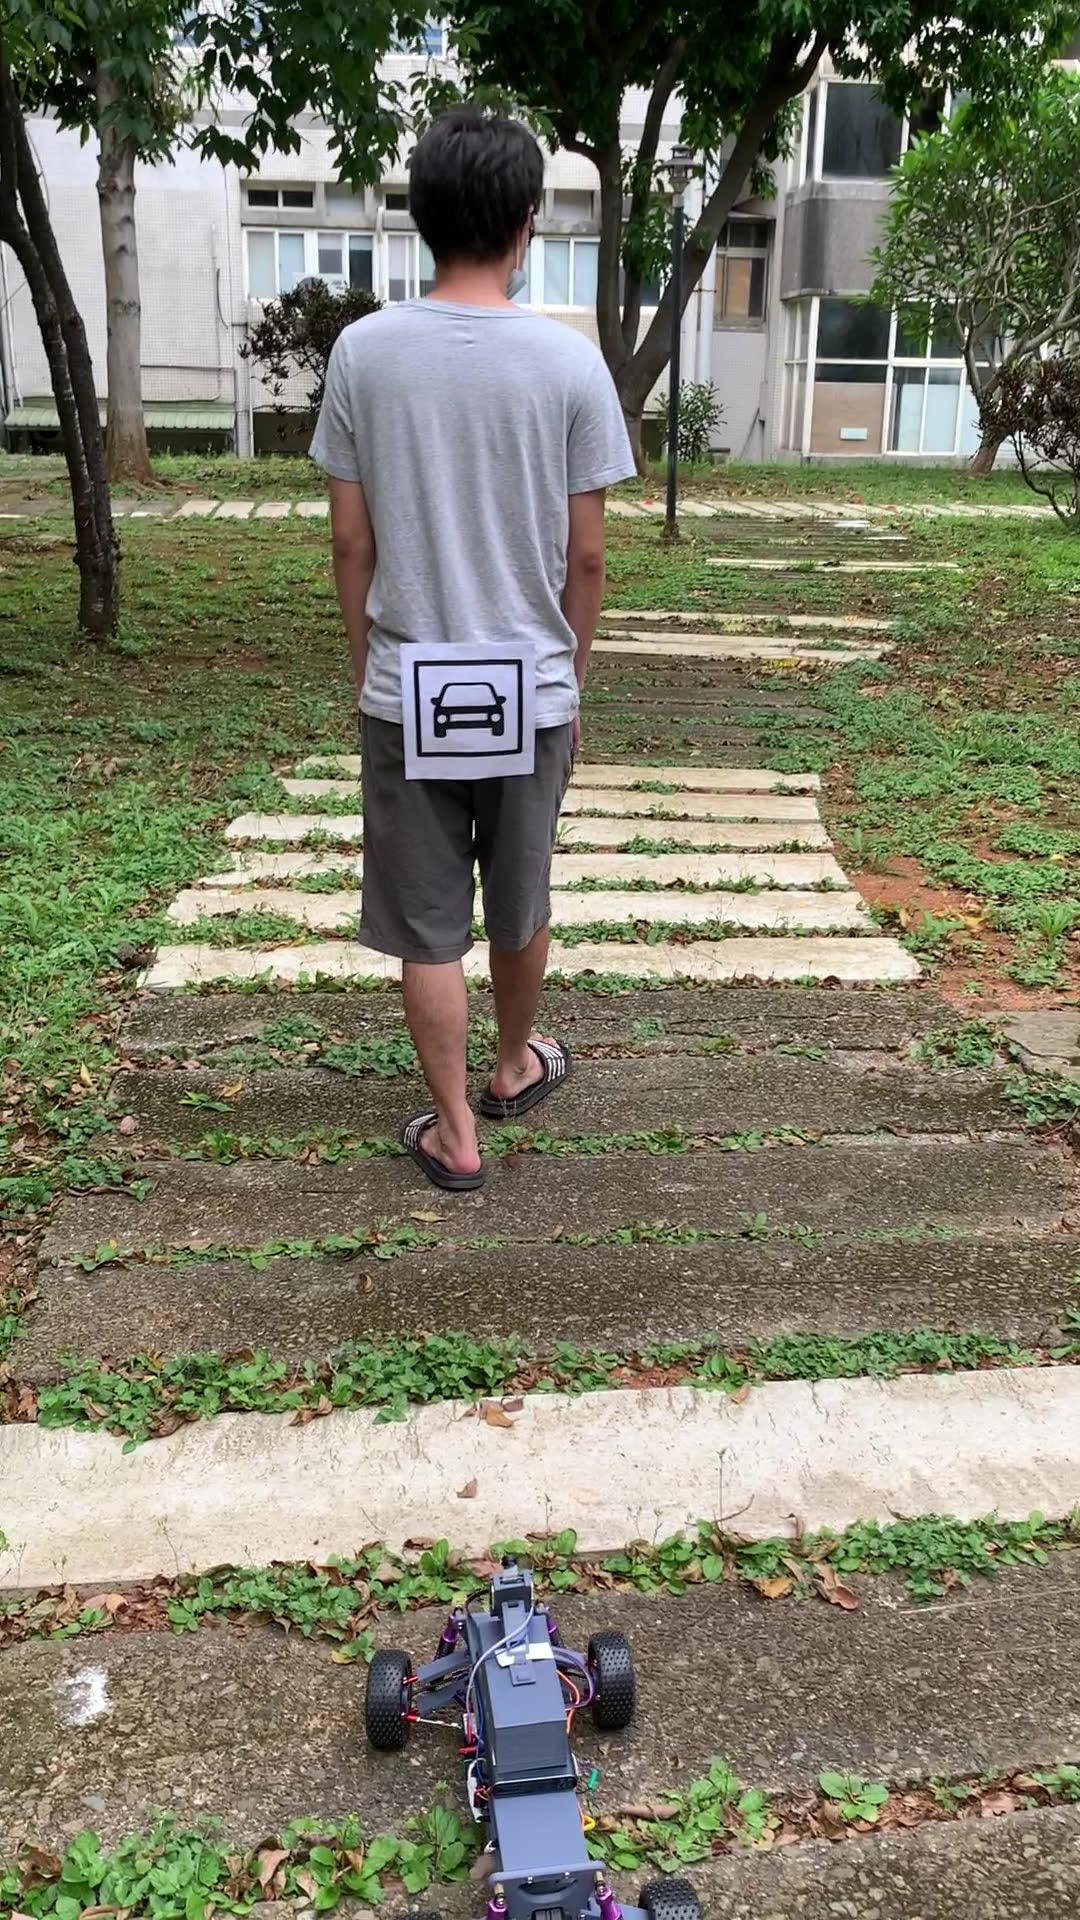car_img: (413, 658, 524, 758)
